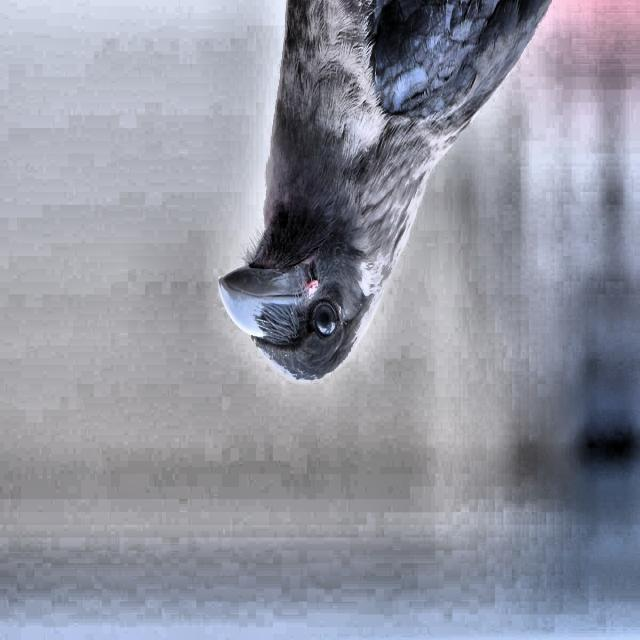crow: (212, 4, 554, 392)
